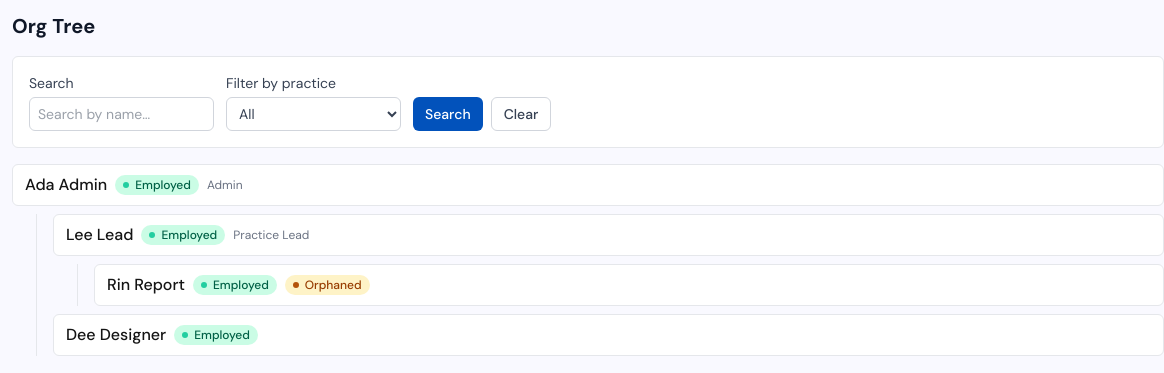
Test: OrgTreePage › searching for a deep node keeps its ancestor chain and hides unrelated branches
This screenshot has width=1164, height=373.
Expected: the link "Ada Admin" is shown, [25,173,107,197]
Type "Rin" into the search field labelled "Search".
click(122, 114); type("Rin")  # box [29,97,214,131]
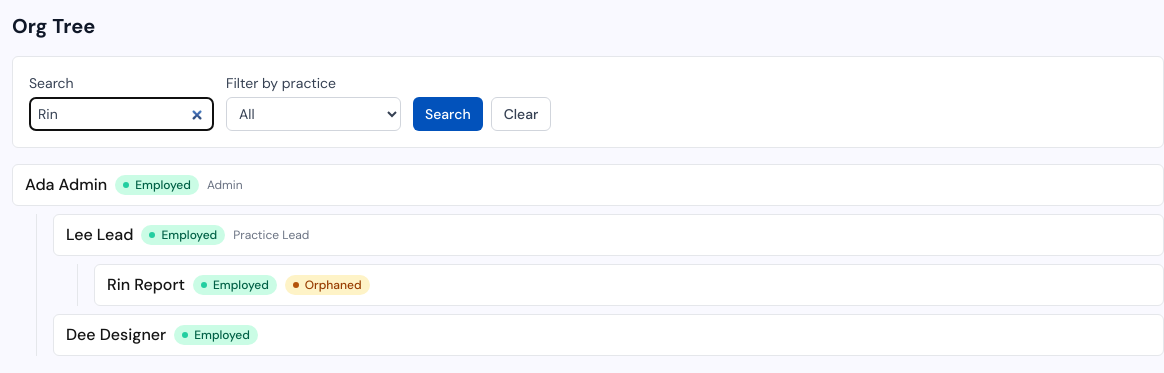
Click the button "Search".
click(448, 114)  # box [413,97,483,131]
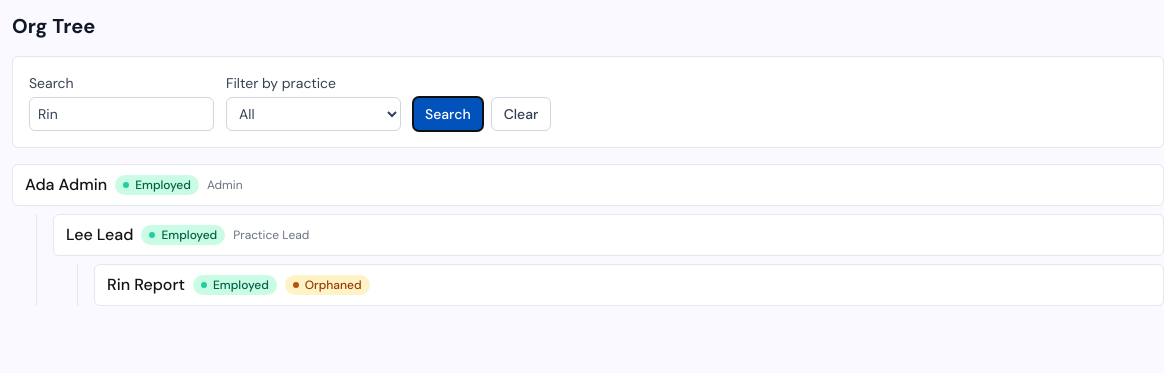
Expected: the link "Ada Admin" is shown, [25,173,107,197]
Expected: the link "Dee Designer" is gone
